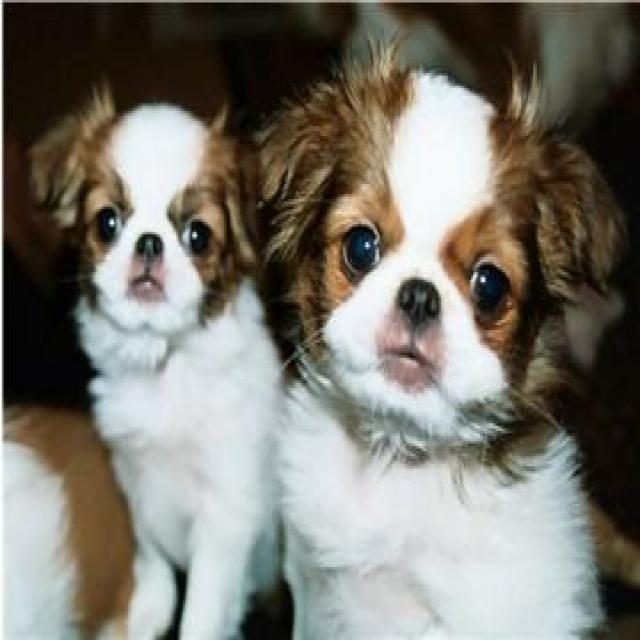husky: (251, 38, 618, 635), (16, 60, 283, 638)
